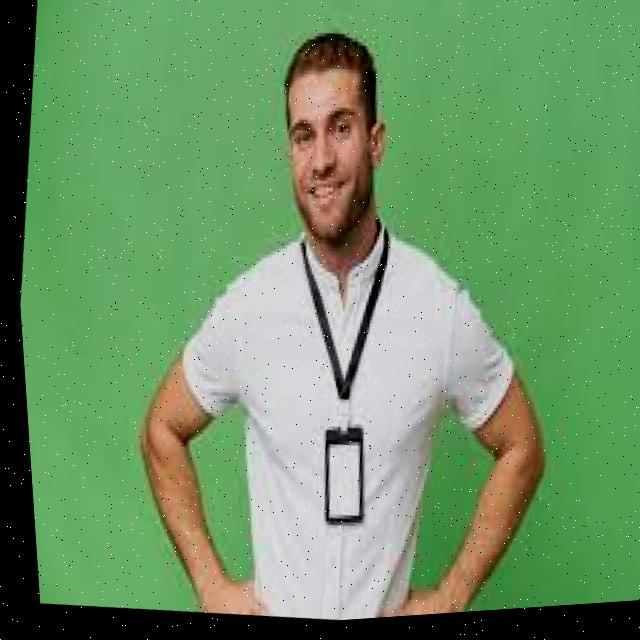id_card: (258, 236, 409, 544)
